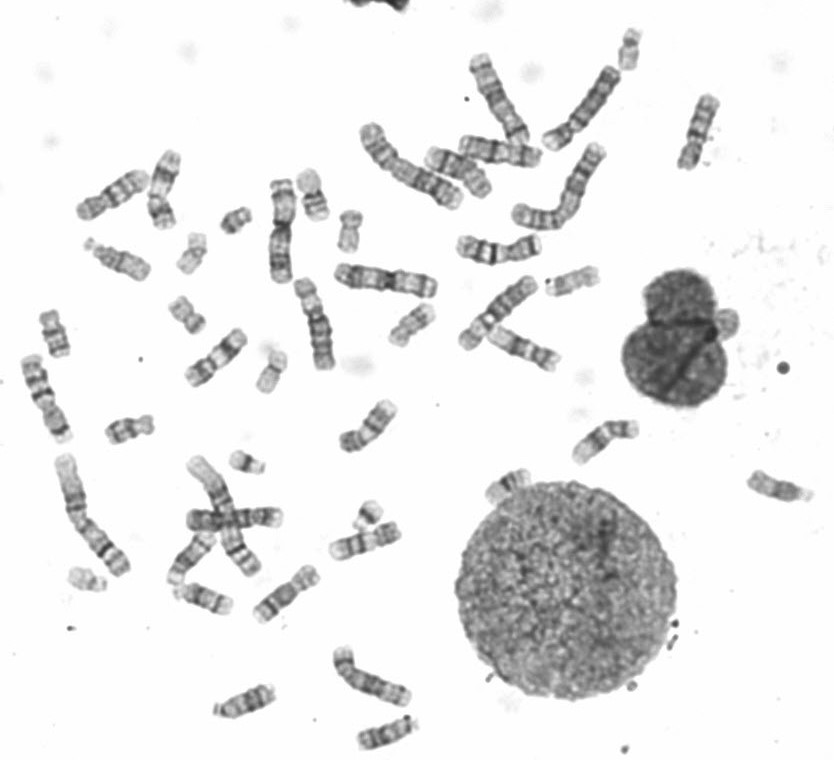chromosomes: (177, 448, 264, 584), (350, 116, 467, 216), (51, 452, 135, 587), (507, 137, 617, 233), (449, 267, 544, 359), (538, 61, 626, 157), (13, 343, 88, 454), (282, 266, 342, 380), (465, 45, 533, 145), (330, 638, 423, 709), (70, 155, 158, 228), (734, 453, 834, 516), (246, 556, 325, 633), (327, 390, 406, 463), (481, 318, 568, 384), (322, 257, 442, 303), (569, 407, 645, 479), (262, 172, 305, 292), (182, 321, 256, 390), (670, 87, 725, 178), (142, 140, 192, 236), (79, 230, 155, 287), (418, 145, 494, 202), (346, 709, 428, 760), (157, 524, 220, 590), (454, 223, 545, 268), (321, 518, 406, 566), (204, 676, 282, 728), (174, 501, 293, 534), (454, 134, 546, 176), (381, 293, 444, 351), (163, 577, 238, 623), (542, 260, 604, 312), (477, 460, 538, 512), (250, 338, 297, 403), (93, 408, 165, 450), (161, 287, 215, 340), (292, 163, 334, 231), (28, 303, 75, 362), (62, 556, 115, 606), (228, 438, 280, 484), (173, 226, 215, 279), (611, 24, 647, 80), (214, 198, 257, 241), (335, 204, 368, 258), (349, 492, 385, 539)
